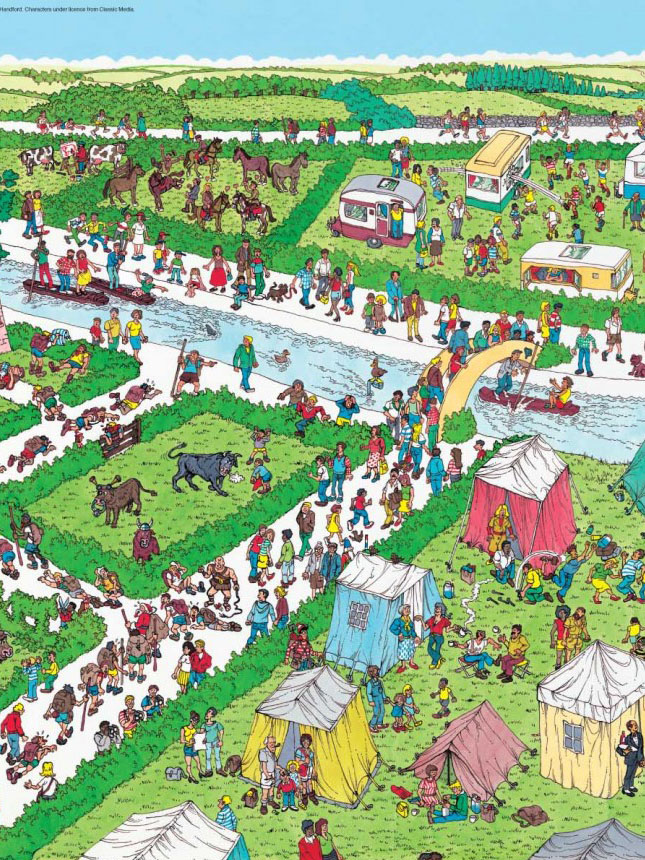waldo: (296, 622, 310, 643)
